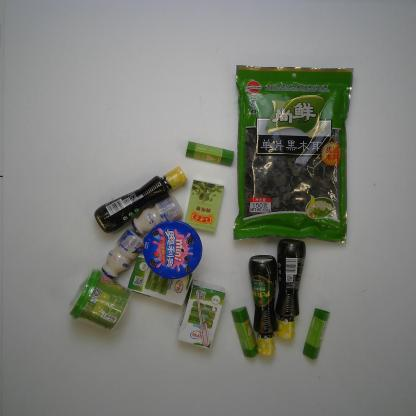Candy: (184, 179, 224, 233)
Dessert: (142, 220, 203, 280)
Dried Food: (233, 64, 354, 244)
Instant Drink: (68, 268, 132, 332)
Milk: (176, 279, 226, 350), (127, 254, 194, 306), (101, 228, 143, 279), (131, 196, 184, 235)
Seasoner: (94, 166, 188, 234), (274, 238, 306, 340), (248, 254, 279, 356)
Stationery: (302, 308, 330, 360), (231, 306, 258, 358), (185, 140, 234, 167)
